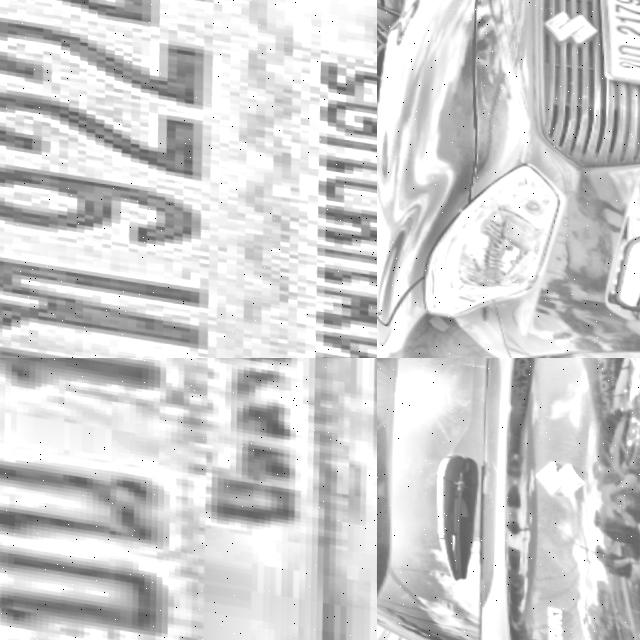license-plate: (0, 0, 377, 358), (0, 358, 377, 640), (591, 0, 640, 84)
